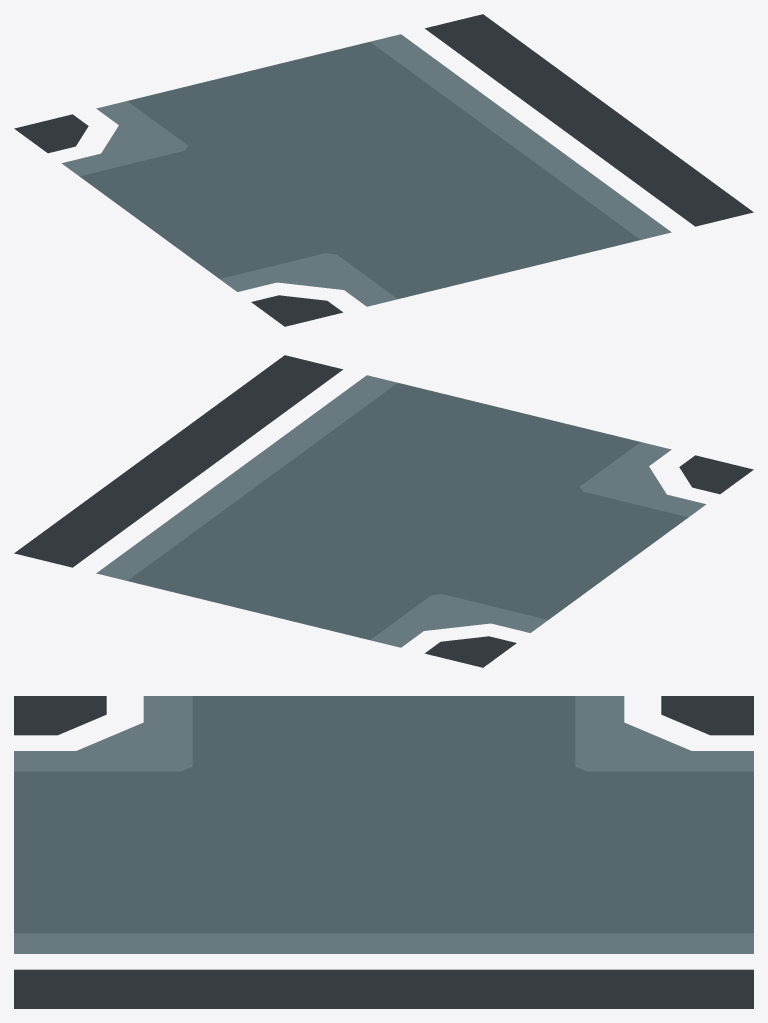
The model's file is Ceiling_type_C_052_004.glb.
3 views of the same model, one above another, from view 1: azimuth 30°, elevation 25°; view 2: azimuth 150°, elevation 25°; view 3: azimuth 270°, elevation 25° (orthographic). The views are drawn at different scales.
Parts seen in each view (by area): view 1: Ceiling_type_C_052.004; view 2: Ceiling_type_C_052.004; view 3: Ceiling_type_C_052.004.
Boxes of the visible parts, <box> form: Ceiling_type_C_052.004: <box>14,14,753,326</box>; Ceiling_type_C_052.004: <box>14,355,753,667</box>; Ceiling_type_C_052.004: <box>14,696,753,1008</box>.
Size of the model in its own units: 4 by 0.035 by 4.
2 materials, 2 textured.
